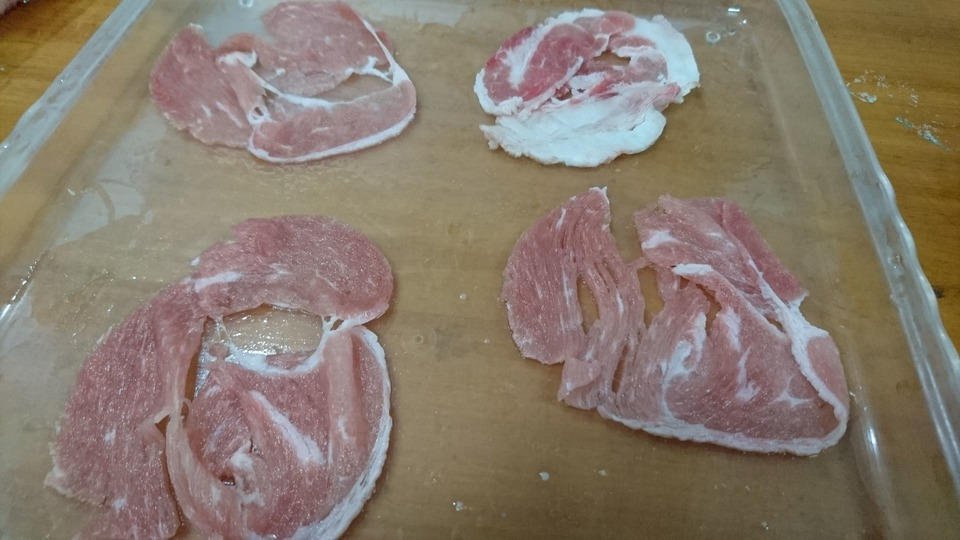restructured meat: (41, 227, 409, 538), (501, 193, 852, 453), (134, 8, 436, 172), (460, 11, 704, 169)
